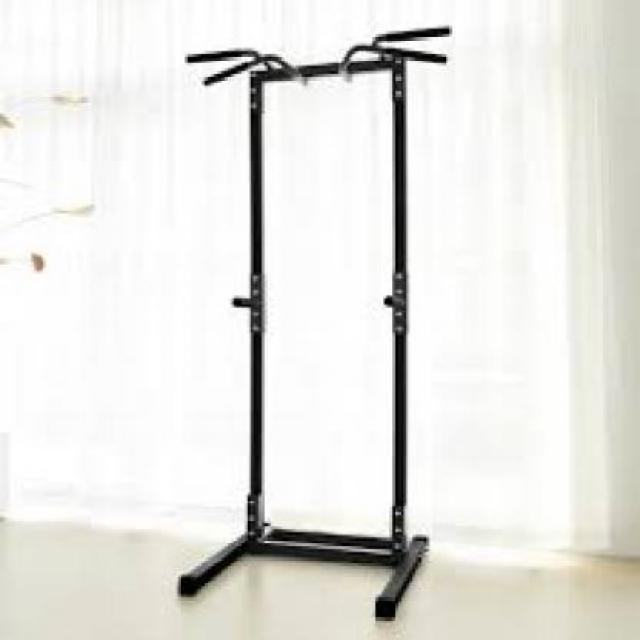chinning dipping: (178, 26, 451, 622)
